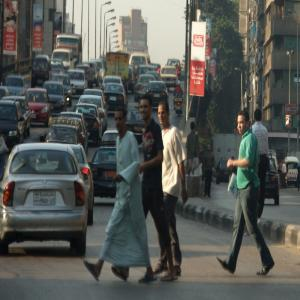Vehicle-registration-plate: (34, 193, 57, 206), (106, 169, 118, 178)
